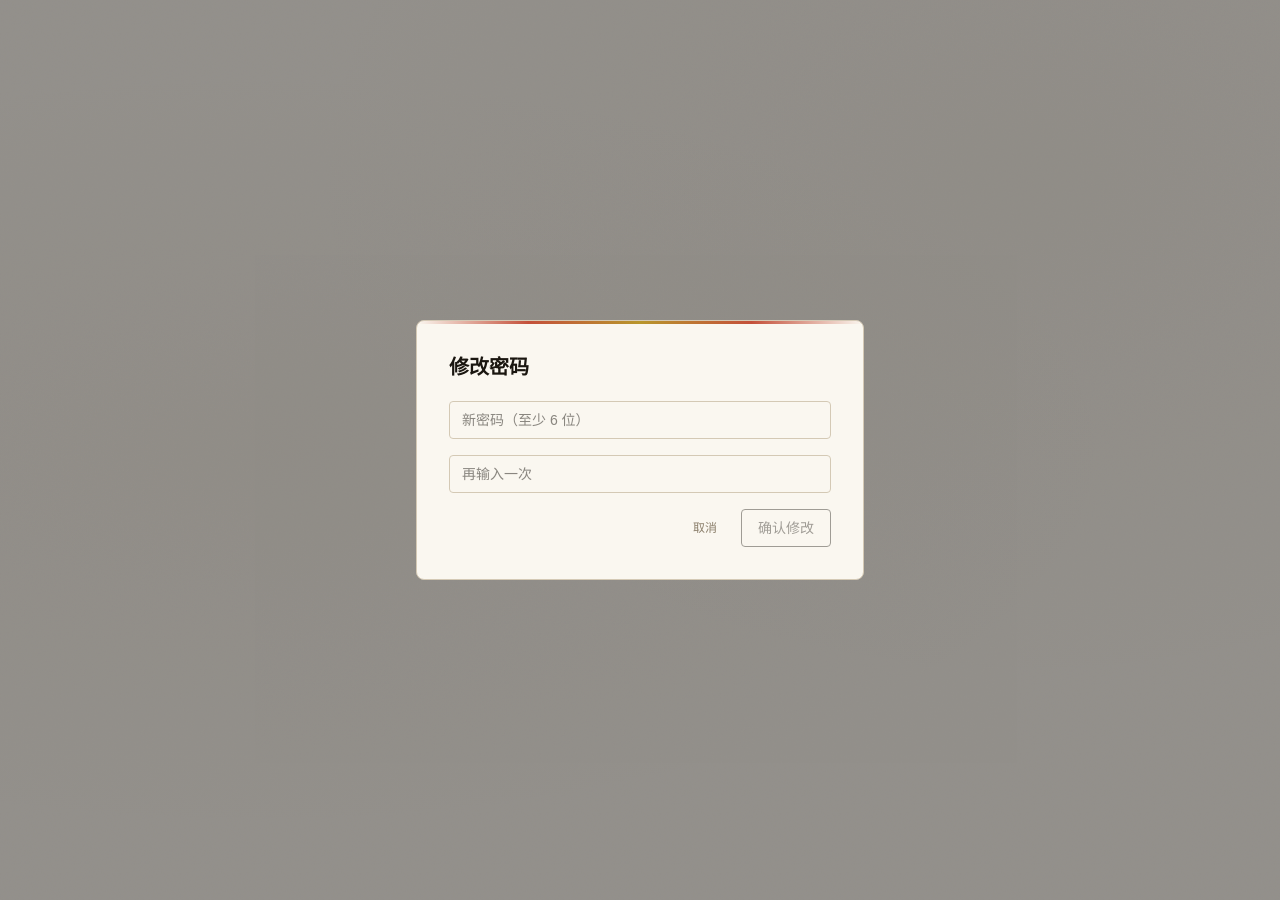
Test: ChangePasswordDialog › shows error message on failure
The width and height of the screenshot is (1280, 900).
Type "newPw123" into the password field with placeholder "新密码（至少 6 位）". click: {"x": 640, "y": 420}
box: [449,401,831,439]
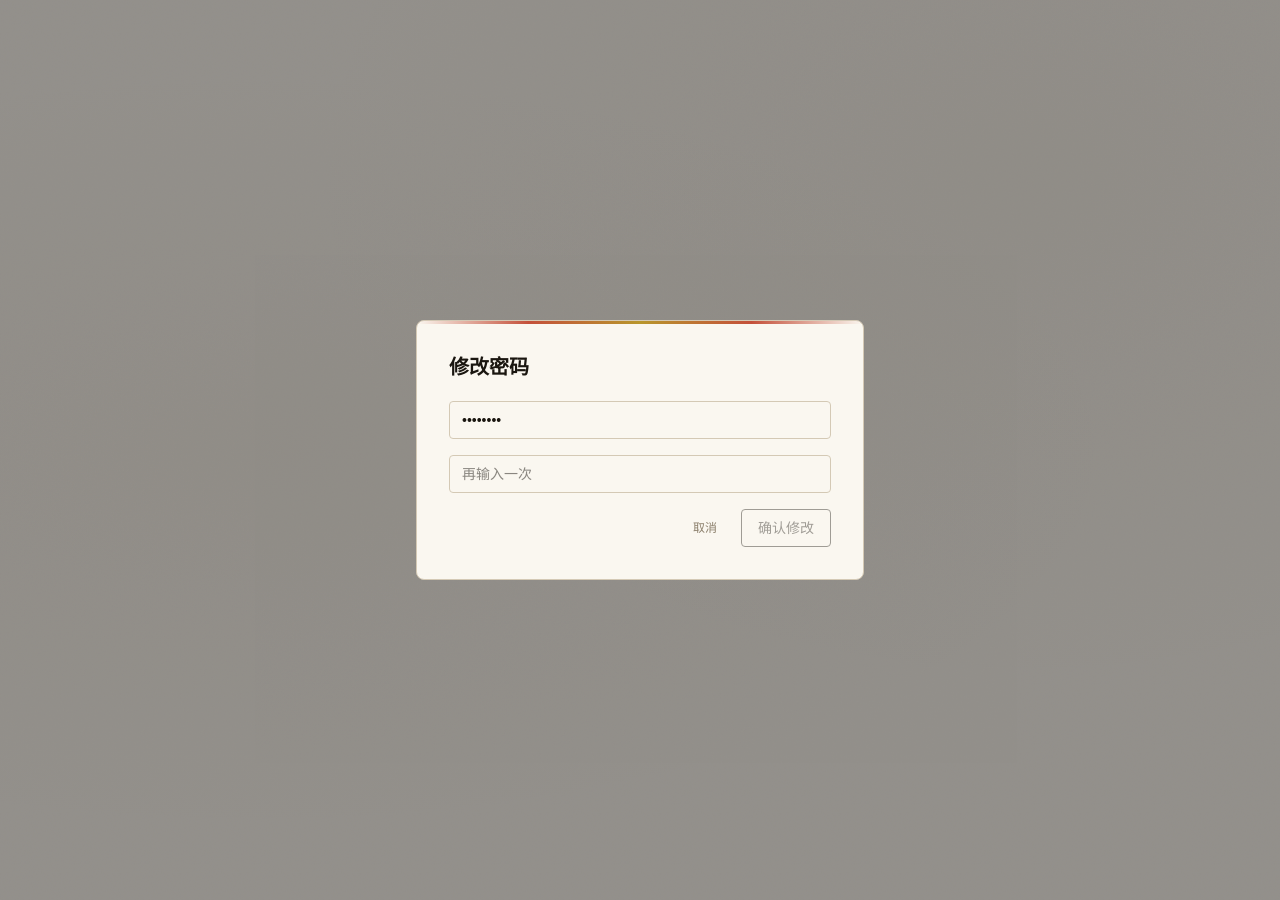
Type "newPw123" into the password field with placeholder "再输入一次". click: {"x": 640, "y": 474}
box: [449,455,831,493]
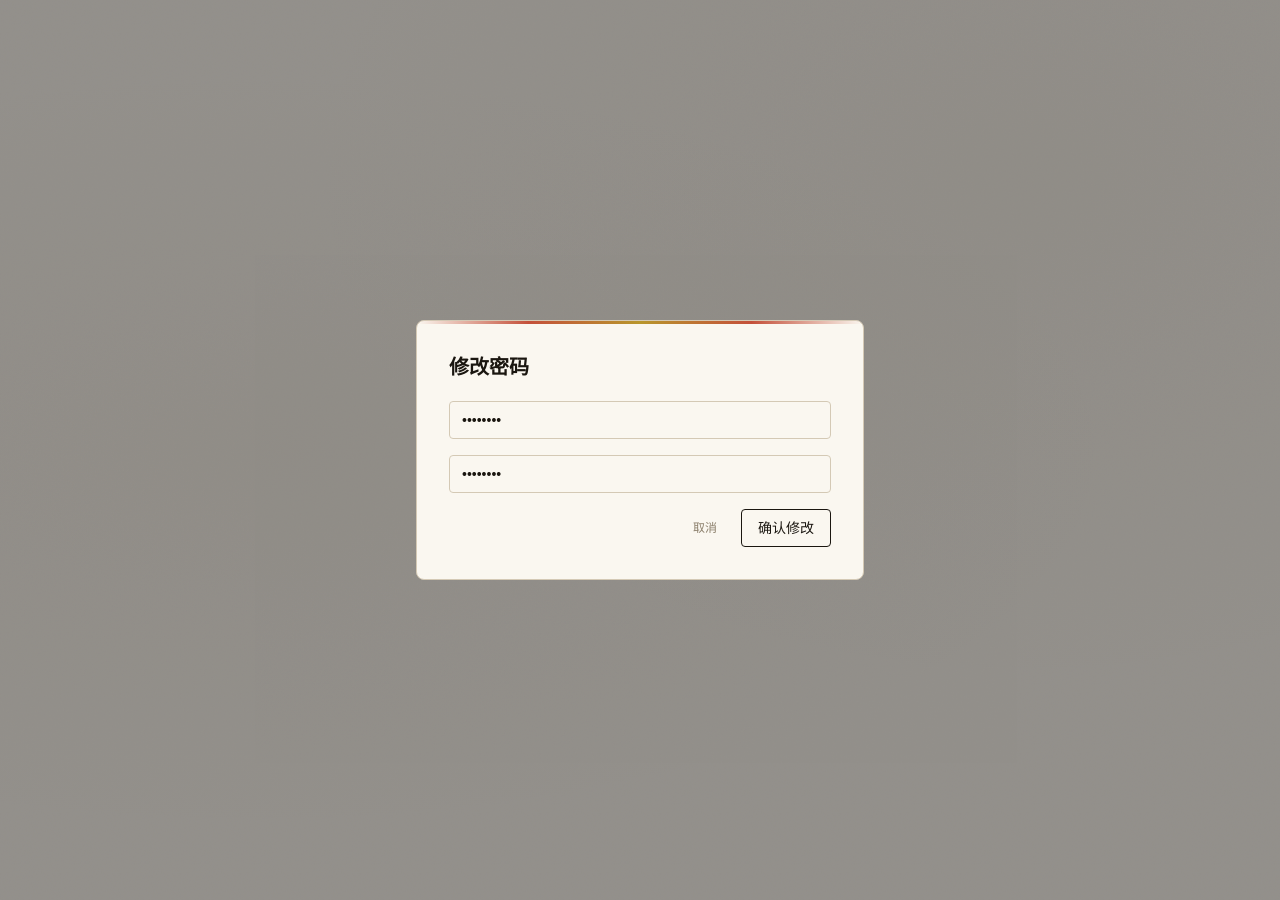
Click the button "确认修改". click: {"x": 786, "y": 528}
box: [741,509,831,547]
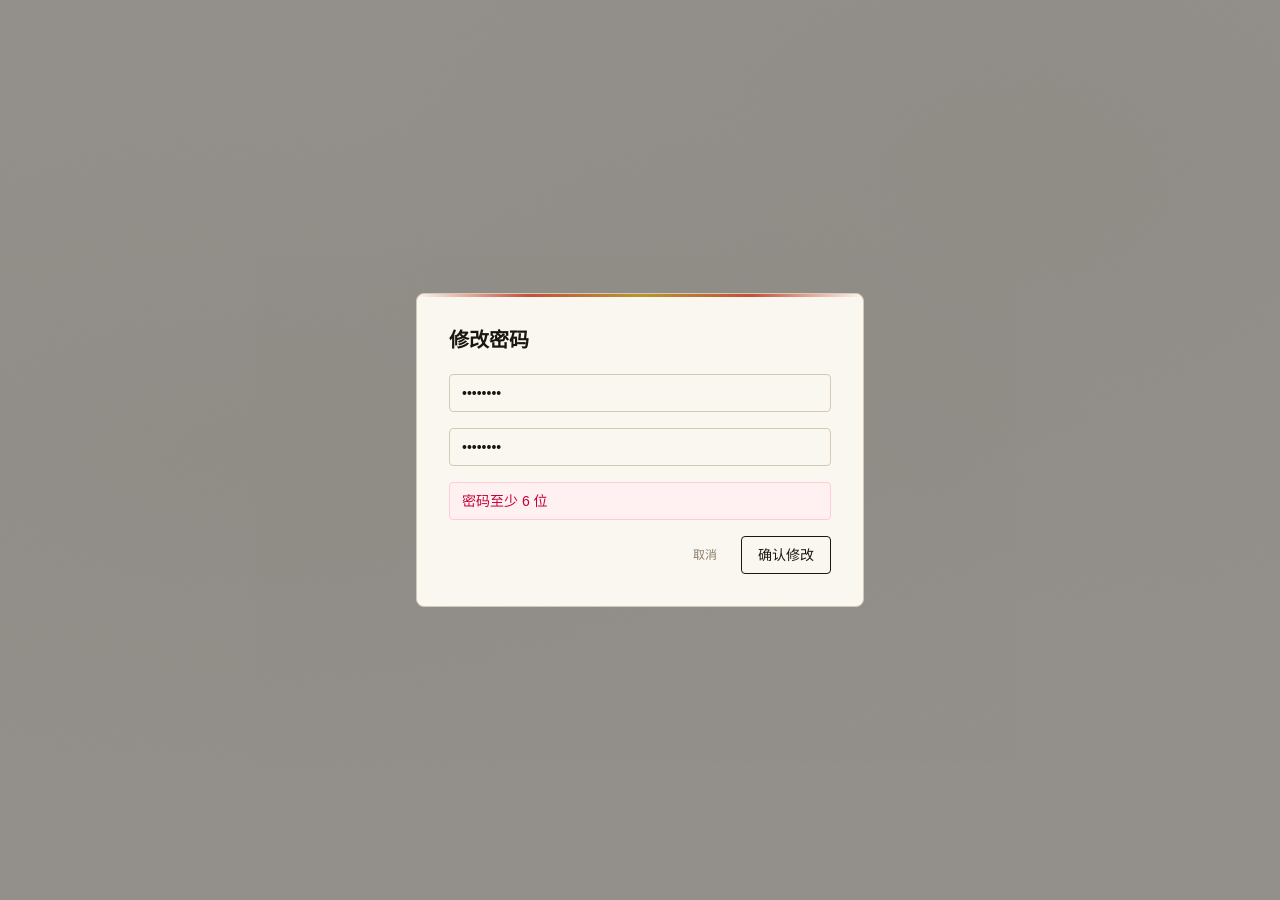
expect the message "密码至少 6 位" is shown: met, box [449,482,831,520]
